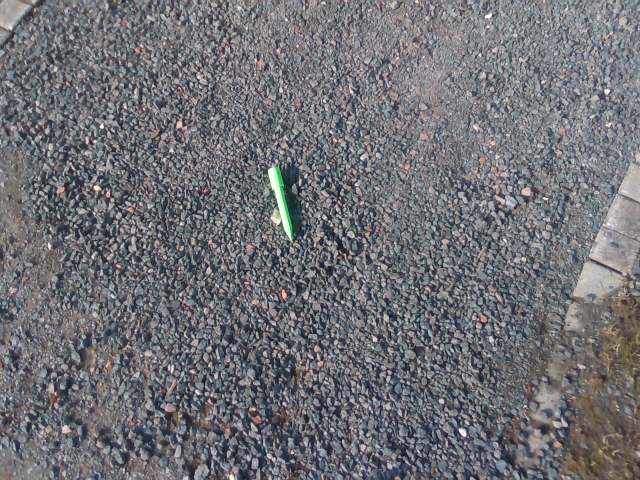Probe: (265, 163, 297, 248)
